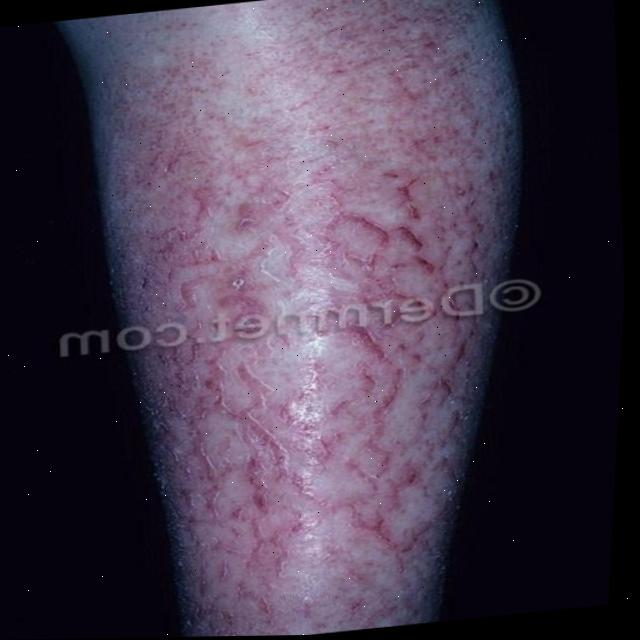Eczema: (94, 0, 535, 638)
